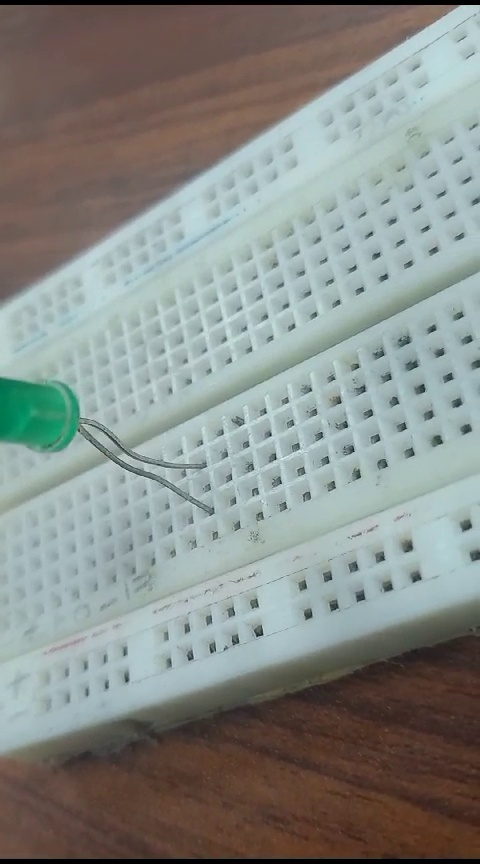LED: (3, 361, 210, 523)
